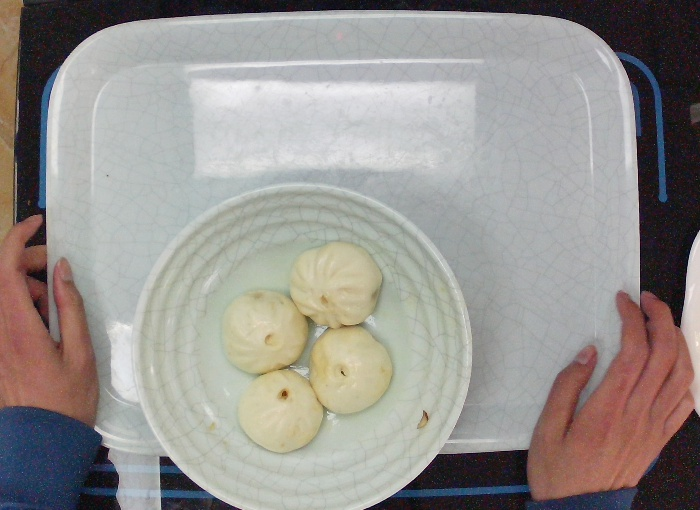JYsf-Da_Tang_Wan: (127, 179, 478, 510)
